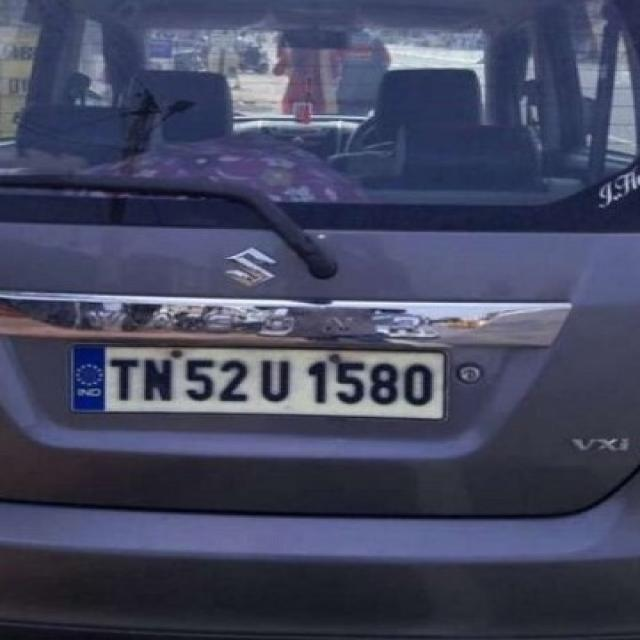license-plate: (70, 341, 447, 418)
